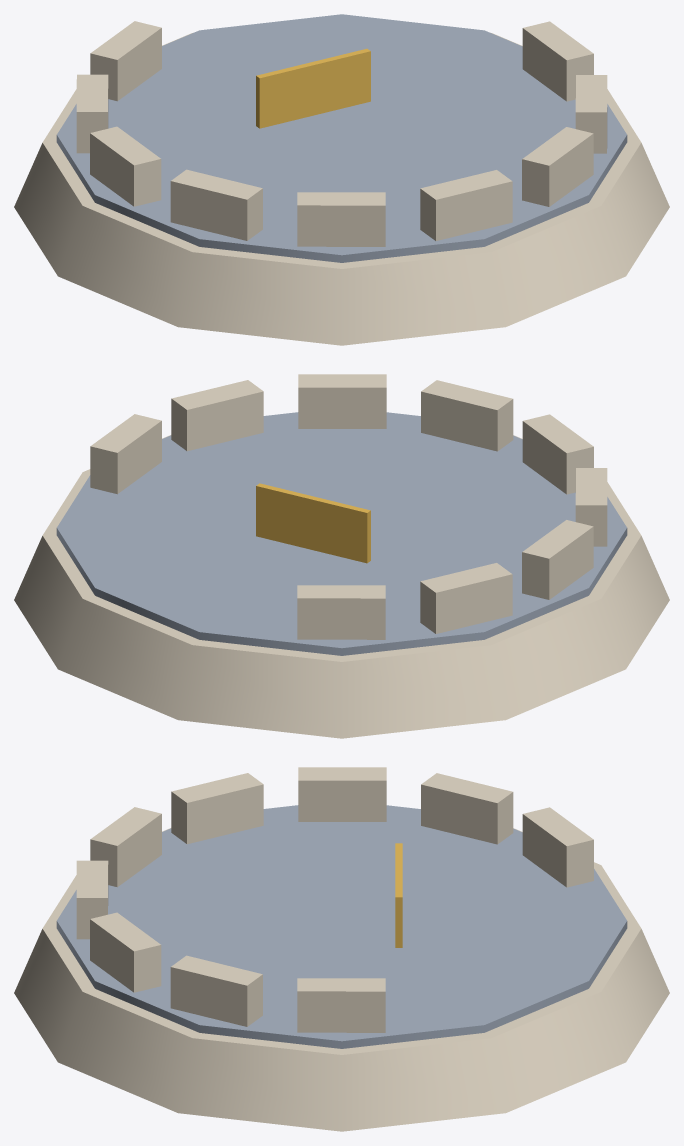
File: prop_lobnoe.glb
3 views of the same model, one above another, from view 1: azimuth 30°, elevation 25°; view 2: azimuth 150°, elevation 25°; view 3: azimuth 270°, elevation 25° (orthographic).
Visible parts, largest first — view 1: prop_lobnoe; view 2: prop_lobnoe; view 3: prop_lobnoe.
Boxes of the visible parts, box(x1,y1,x2,y2) form: prop_lobnoe: box(14, 14, 669, 345); prop_lobnoe: box(14, 374, 669, 738); prop_lobnoe: box(14, 767, 669, 1131).
Bounding box in the file's own units: 4.6 × 0.9501 × 4.6.
Materials: 1 (1 with a texture image).
